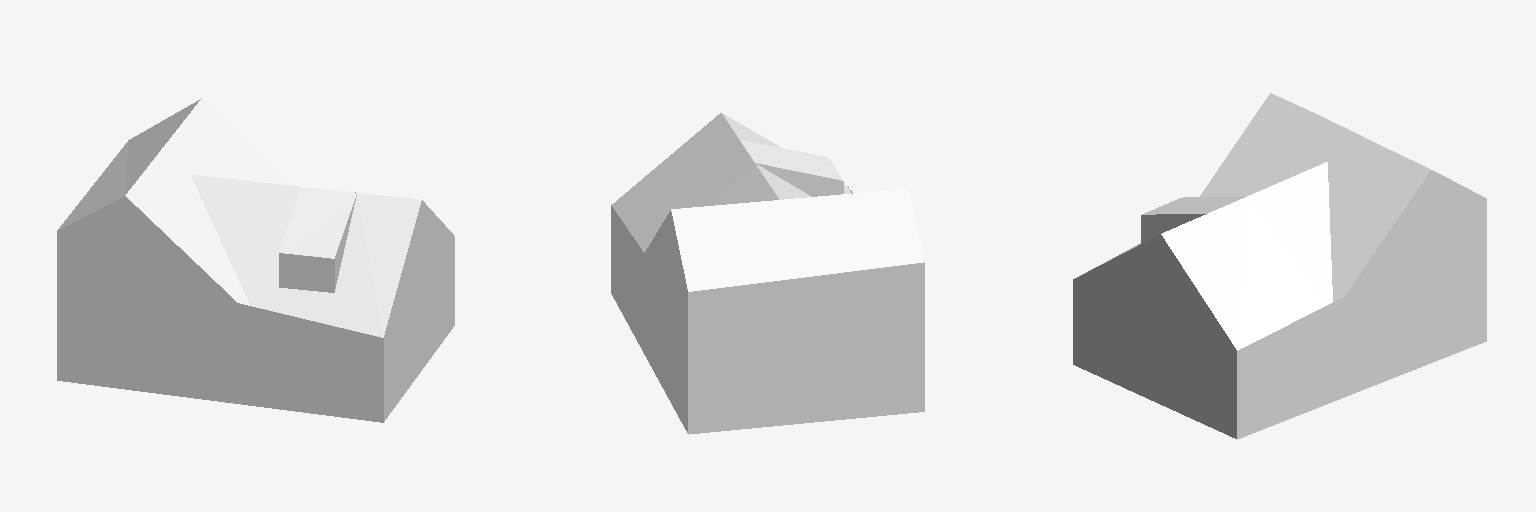
File: house_Shape 244.obj
3 renders of one model, left to right at view 1: azimuth 30°, elevation 25°; view 2: azimuth 150°, elevation 25°; view 3: azimuth 270°, elevation 25°, orthographic.
Parts seen in each view (by area): view 1: CityEngineMaterial_8, CityEngineMaterial_107, CityEngineMaterial_149, CityEngineMaterial_95; view 2: CityEngineMaterial_8, CityEngineMaterial_95, CityEngineMaterial_149, CityEngineMaterial_107; view 3: CityEngineMaterial_8, CityEngineMaterial_107, CityEngineMaterial_95, CityEngineMaterial_149.
Part boxes in pixels (x1,y1,x2,y2): CityEngineMaterial_8: (57, 99, 444, 337); CityEngineMaterial_107: (57, 280, 383, 422); CityEngineMaterial_149: (57, 196, 449, 310); CityEngineMaterial_95: (279, 195, 454, 421); CityEngineMaterial_8: (612, 113, 923, 291); CityEngineMaterial_95: (688, 311, 924, 434); CityEngineMaterial_149: (644, 210, 924, 333); CityEngineMaterial_107: (611, 163, 852, 432); CityEngineMaterial_8: (1142, 93, 1430, 350); CityEngineMaterial_107: (1080, 241, 1486, 439); CityEngineMaterial_95: (1073, 214, 1236, 438); CityEngineMaterial_149: (1090, 170, 1486, 332).
Bounding box in the file's own units: 16.59 × 8.63 × 16.74.